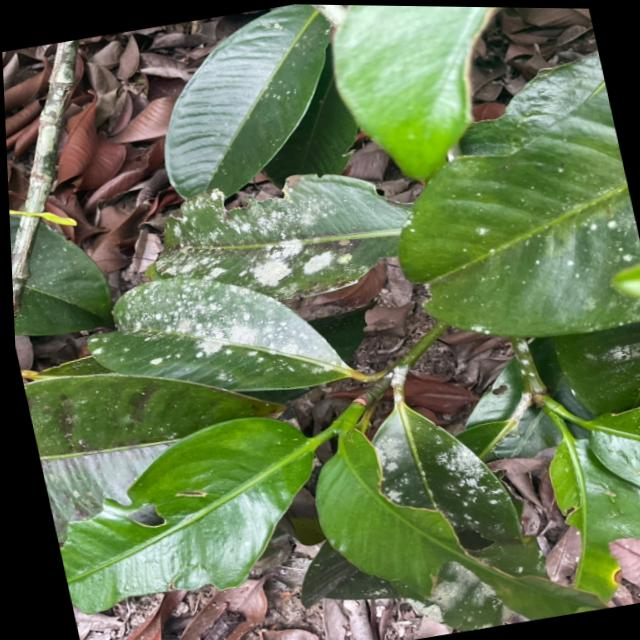Leaf Spot: (369, 393, 521, 544), (125, 267, 292, 381), (222, 190, 339, 296), (160, 206, 219, 254)
